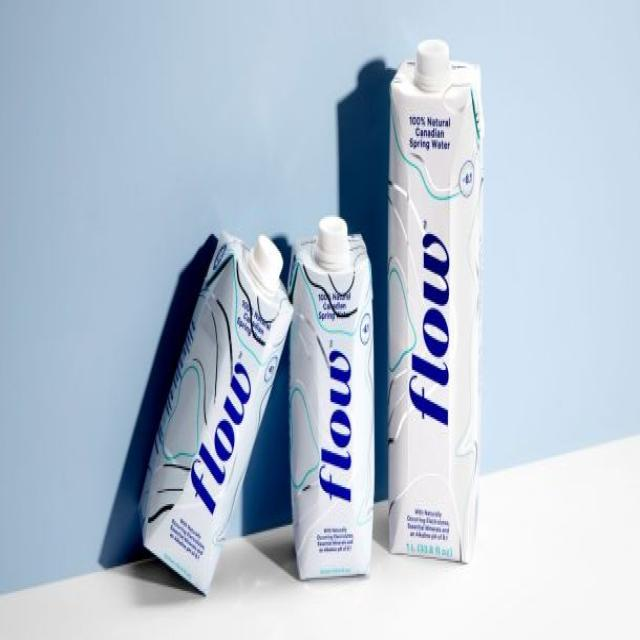cardboard: (386, 38, 490, 570), (140, 229, 291, 591), (289, 212, 377, 576)
